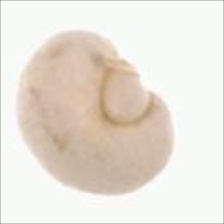L5: (98, 59, 155, 129)
L6: (14, 27, 178, 198)
